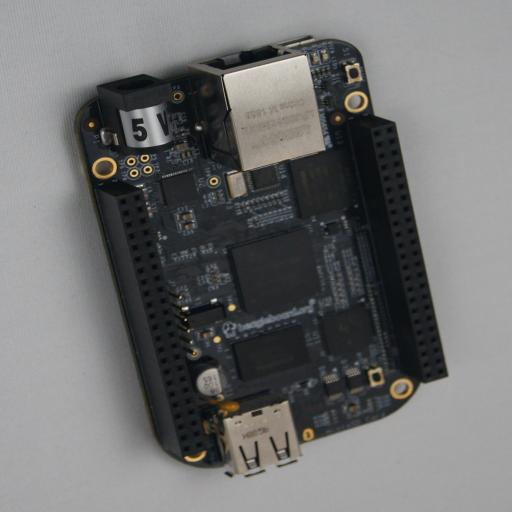Beaglebone Black: (67, 36, 448, 478)
